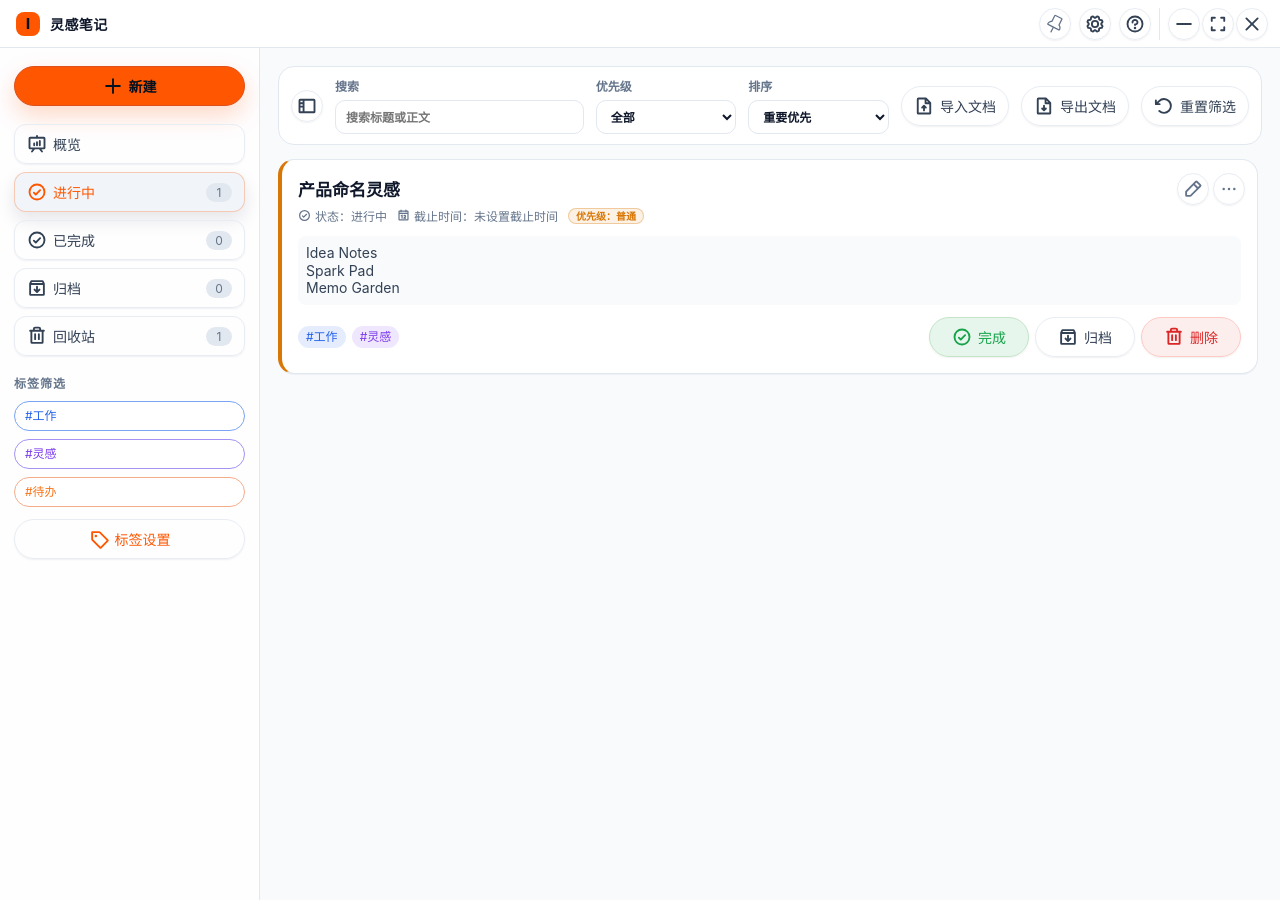
Test: App trash actions › 更多操作菜单按笔记状态展示恢复和删除
Click the button "回收站 1": (130, 336) [14,316,245,356]
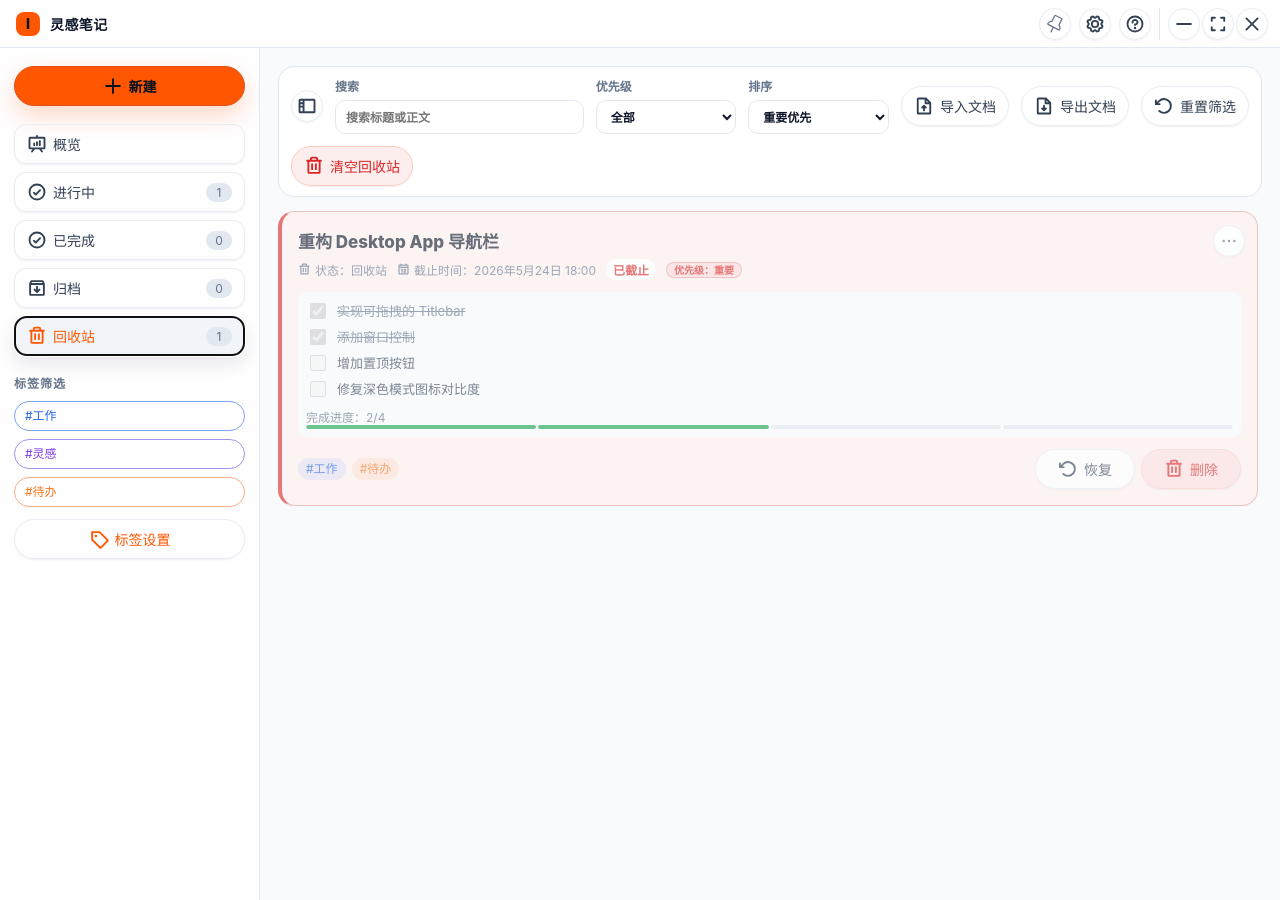
Expected: the text "重构 Desktop App 导航栏" is shown, [298,232,499,252]
Expected: the button "编辑笔记" is gone
Expected: the checkbox labelled "增加置顶按钮" is disabled
Click the checkbox labelled "增加置顶按钮": (318, 363) [310,355,326,371]
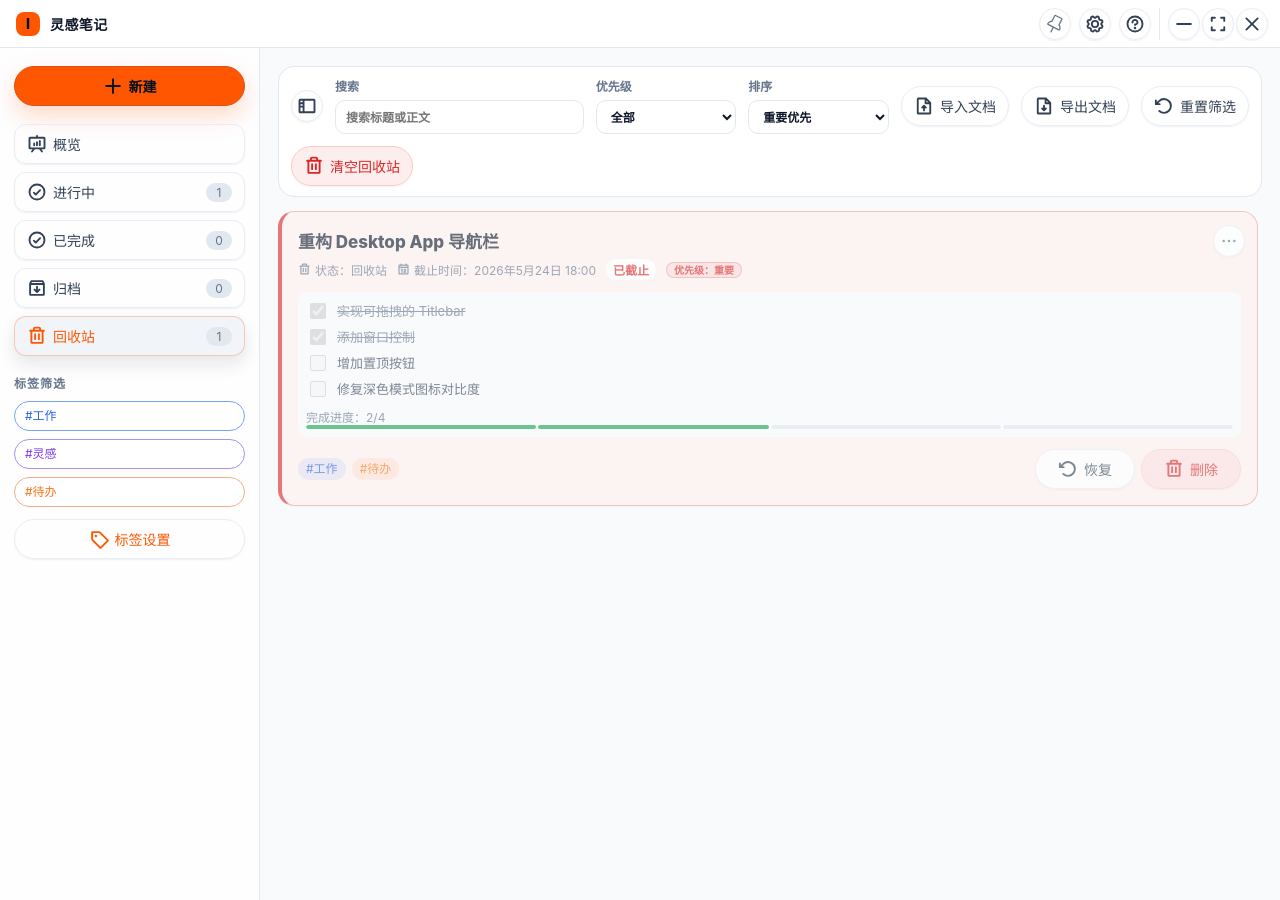
Click the button named "更多操作": (1229, 240) [1213,224,1245,256]
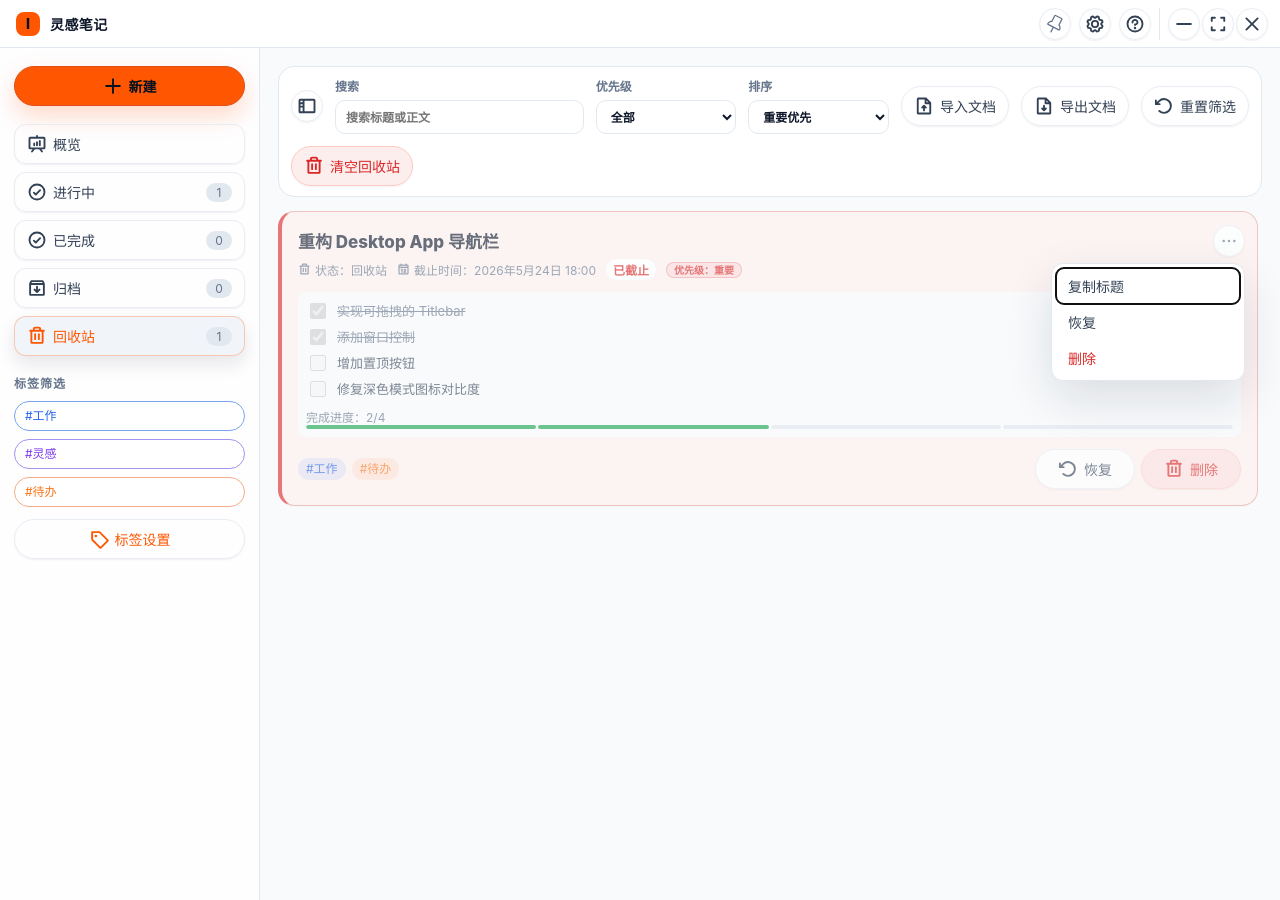
Expected: the menu item "恢复" is shown, [1056,304,1240,340]
Expected: the menu item "删除" is shown
Click the menu item "删除": (1148, 358) [1056,340,1240,376]
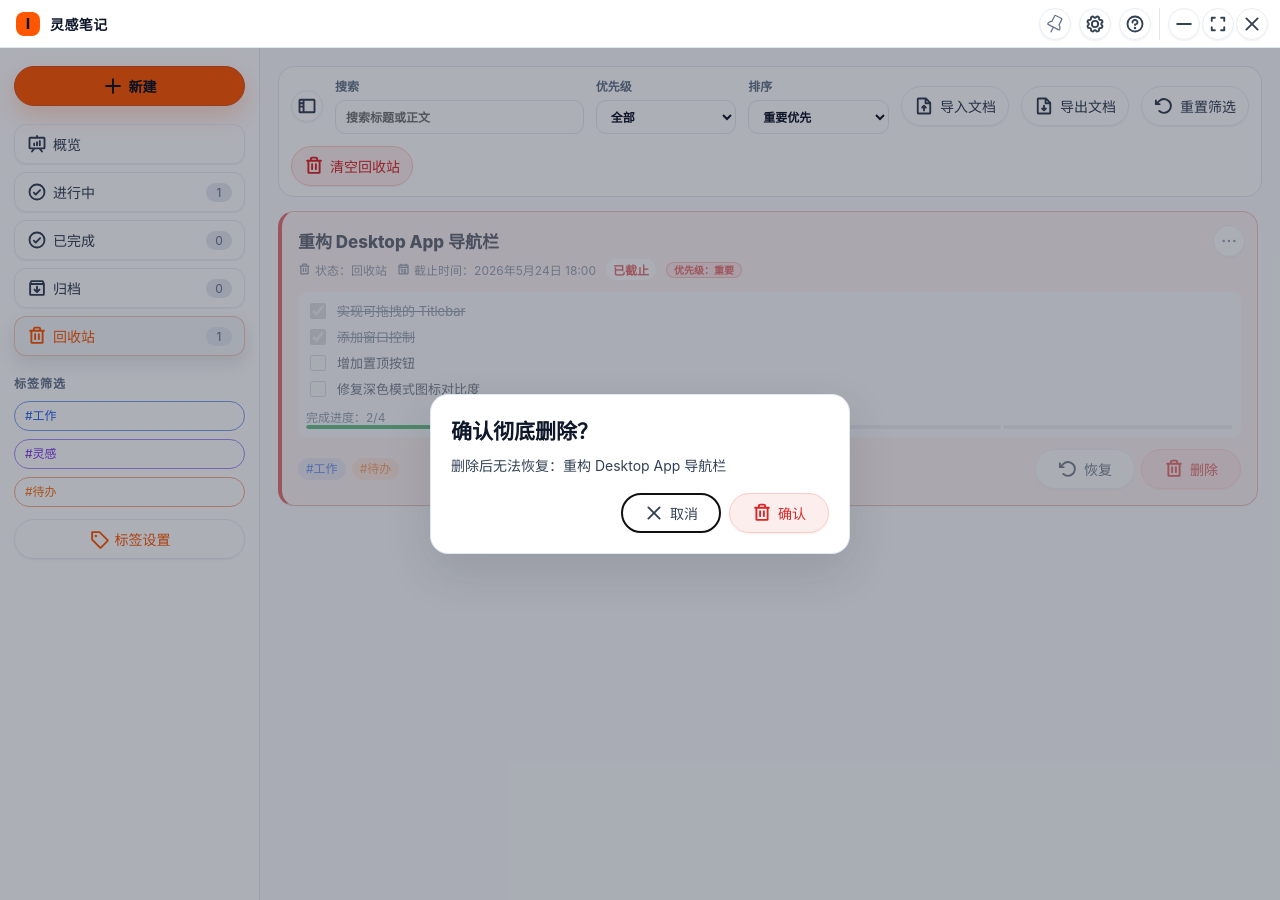
Expected: the dialog "确认彻底删除？" is shown, [430,394,850,554]
